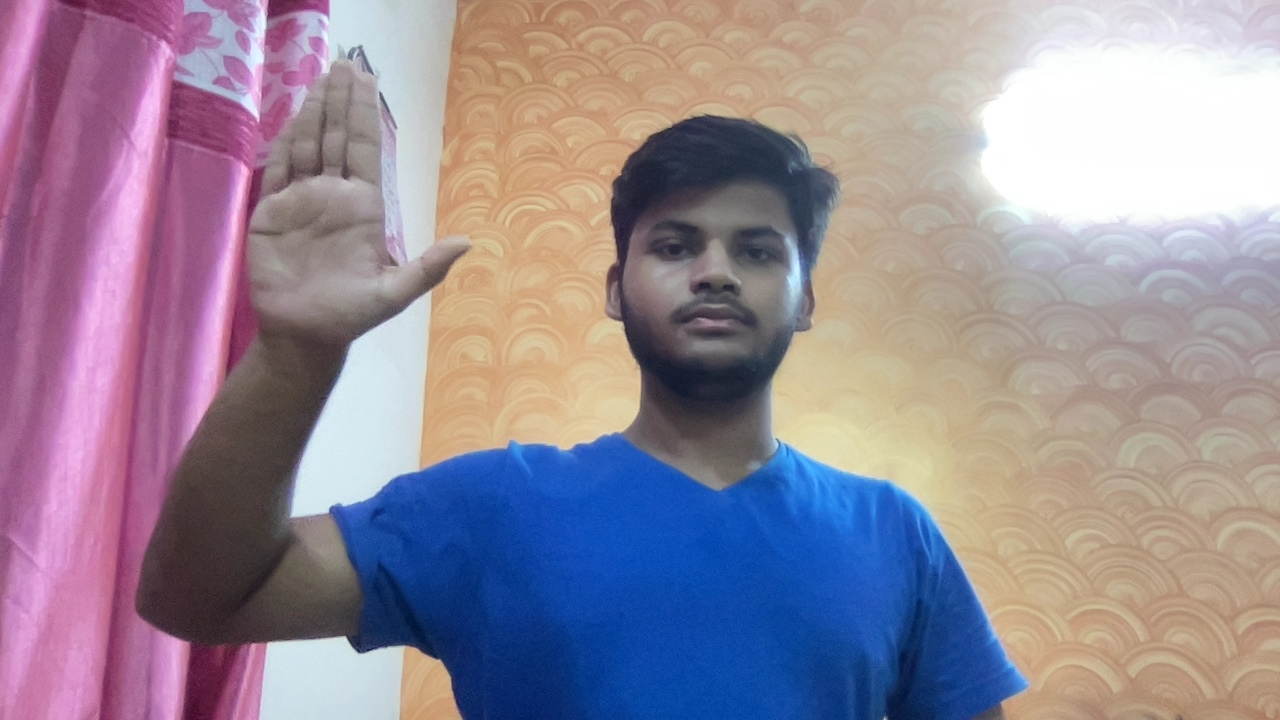hello: (231, 38, 477, 384)
